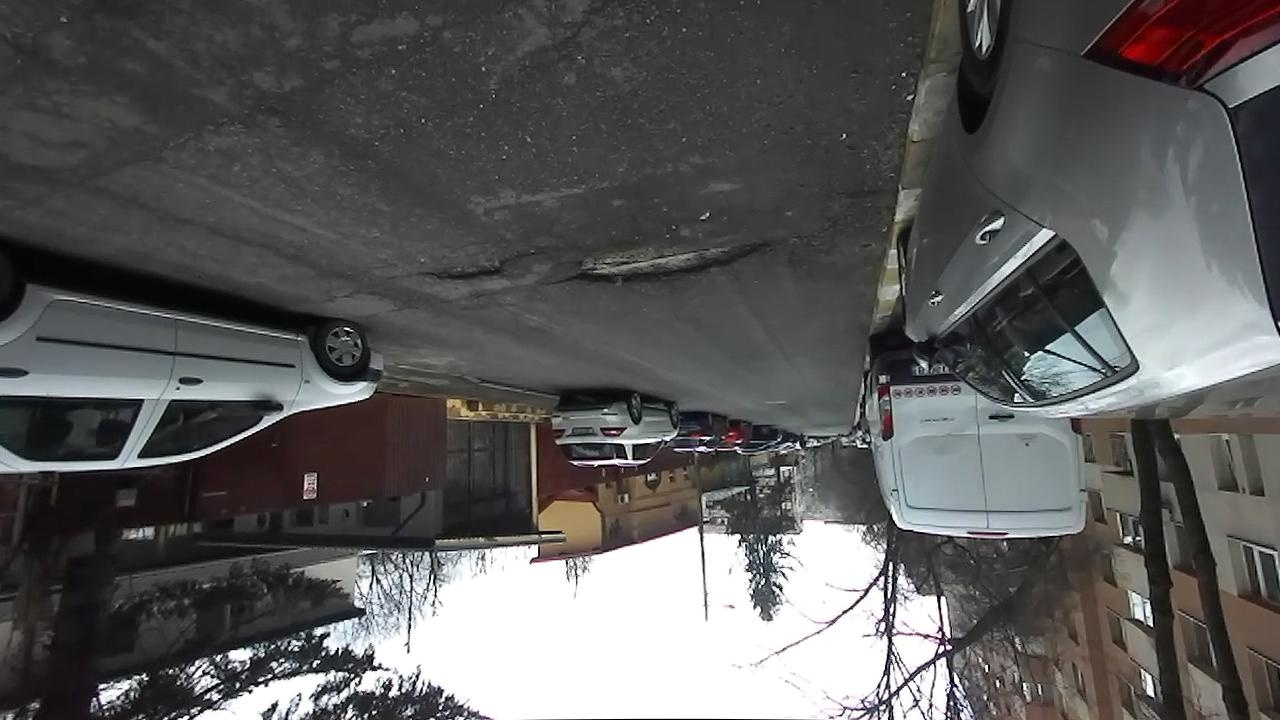pothole: (548, 230, 784, 291), (420, 248, 539, 288)
